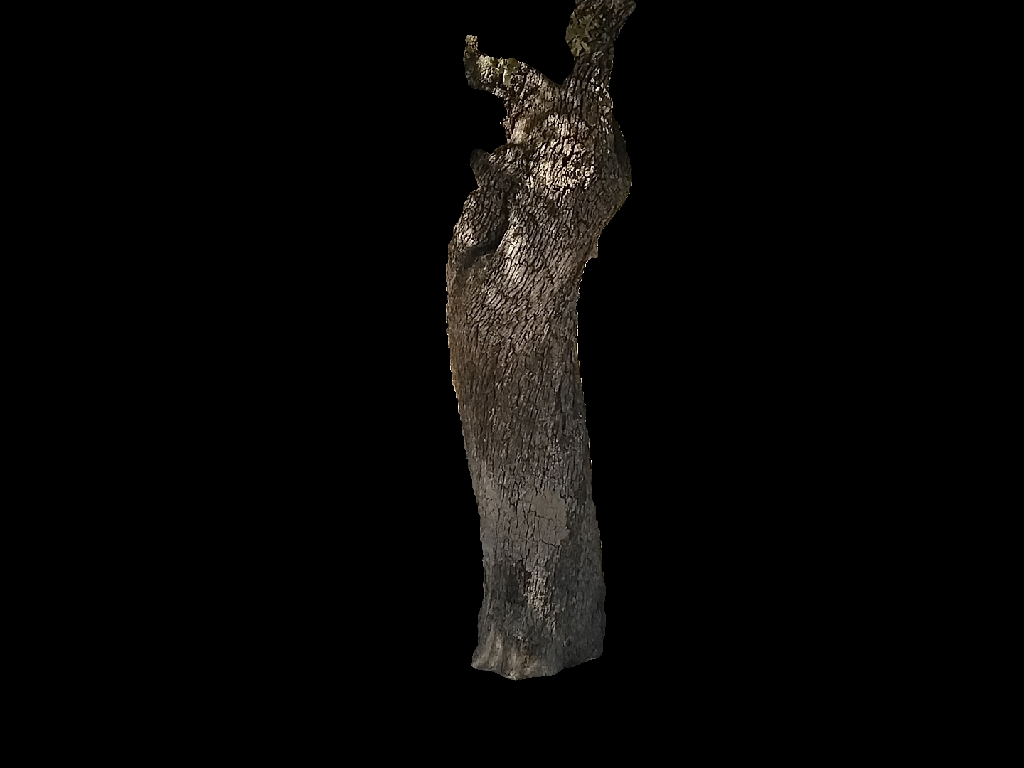Hole: (475, 236, 504, 255)
Injure: (595, 119, 629, 240)
